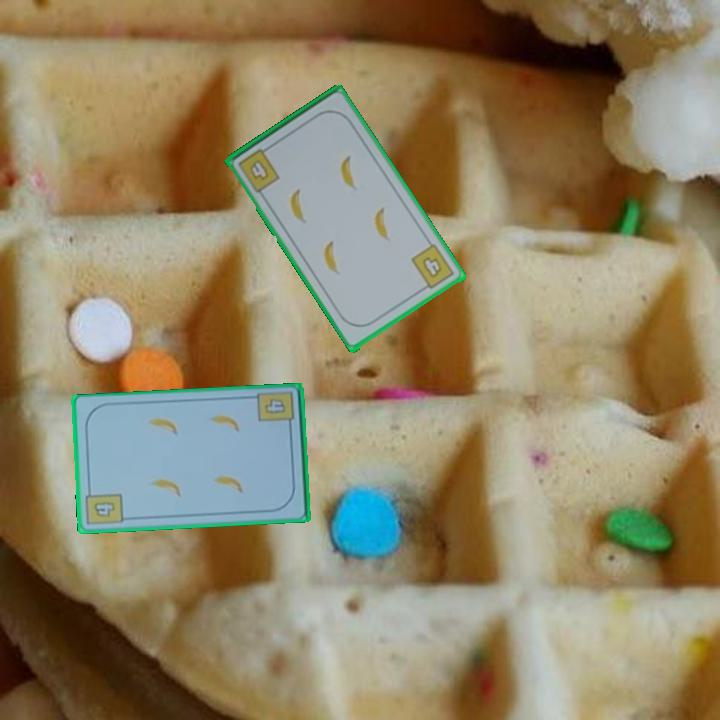4b: (408, 241, 457, 294), (235, 142, 283, 196), (83, 485, 126, 528), (261, 395, 288, 417)
